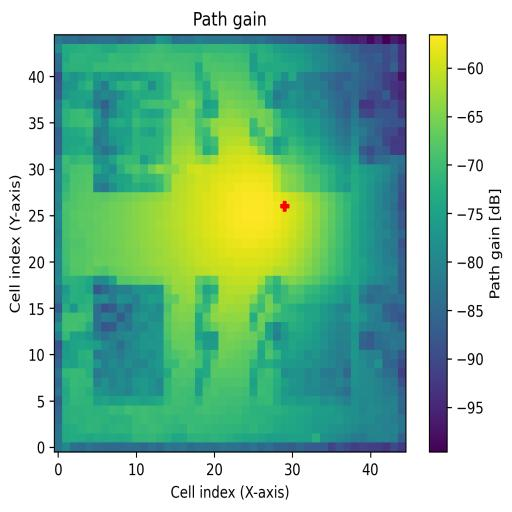Concrete: (273, 69, 352, 193)
Glass: (93, 72, 172, 193)
Metal: (281, 284, 352, 406)
Wood: (94, 286, 165, 405)
